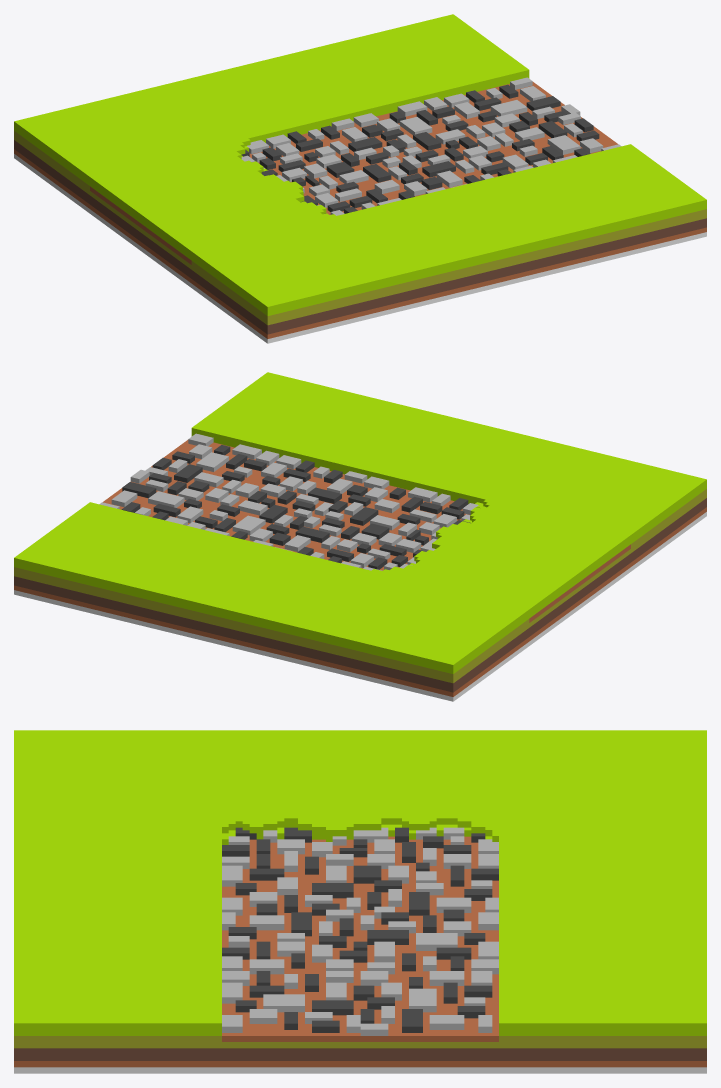
The model's file is Ways-1-Way Fade Out.obj.
3 views of the same model, one above another, from view 1: azimuth 30°, elevation 25°; view 2: azimuth 150°, elevation 25°; view 3: azimuth 270°, elevation 25° (orthographic). The views are drawn at different scales.
Visible parts, largest first — view 1: Way Fade Out; view 2: Way Fade Out; view 3: Way Fade Out.
Part boxes in pixels (bbox=[...]): Way Fade Out: bbox=[14, 14, 706, 343]; Way Fade Out: bbox=[14, 372, 706, 701]; Way Fade Out: bbox=[14, 730, 706, 1073].
Size of the model in its own units: 10 by 0.8 by 10.
1 material, 1 textured.
